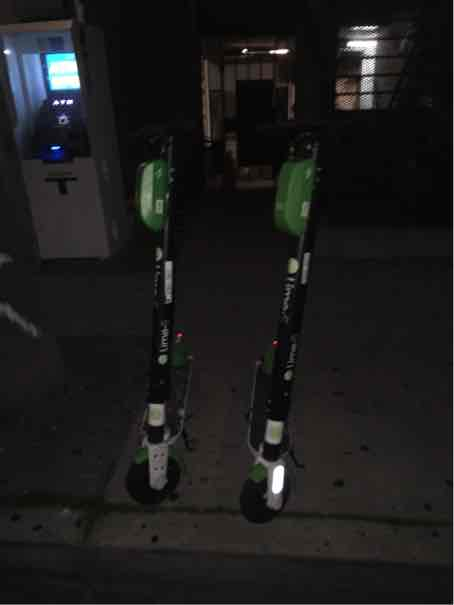too close: (217, 472, 333, 577), (111, 444, 205, 558)
